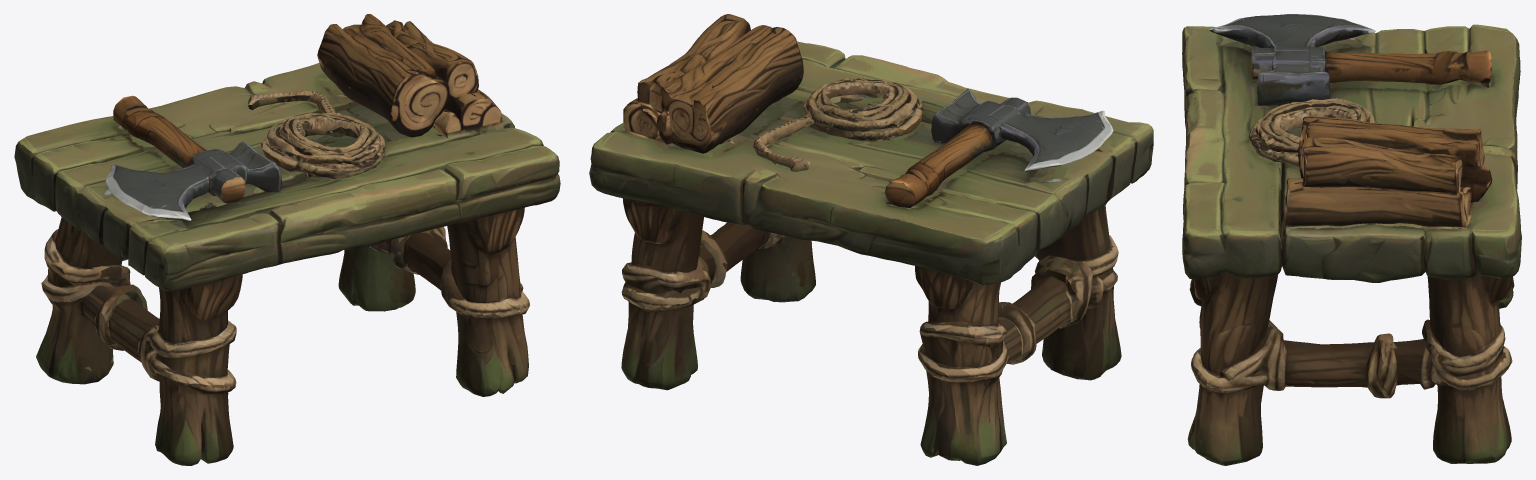
The model's file is struct_crafting_table.glb.
3 renders of one model, left to right at view 1: azimuth 30°, elevation 25°; view 2: azimuth 150°, elevation 25°; view 3: azimuth 270°, elevation 25°, orthographic. The views are drawn at different scales.
Parts seen in each view (by area): view 1: struct_crafting_table; view 2: struct_crafting_table; view 3: struct_crafting_table.
Part boxes in pixels (x1=…): struct_crafting_table: x1=14, y1=14, x2=560, y2=465; struct_crafting_table: x1=589, y1=14, x2=1153, y2=465; struct_crafting_table: x1=1182, y1=14, x2=1521, y2=465.
Size of the model in its own units: 1.4 by 0.9784 by 0.9549.
1 material, 1 textured.
